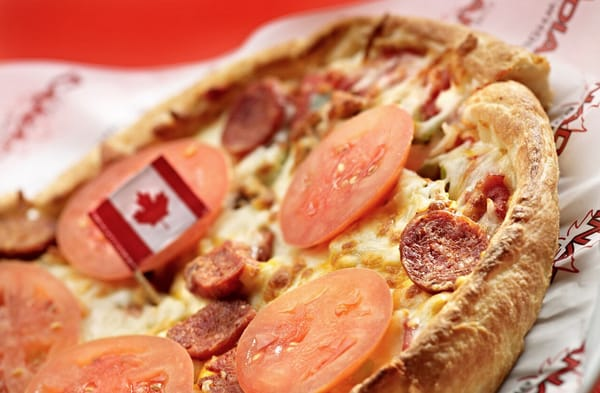sandwich: (6, 12, 590, 386)
